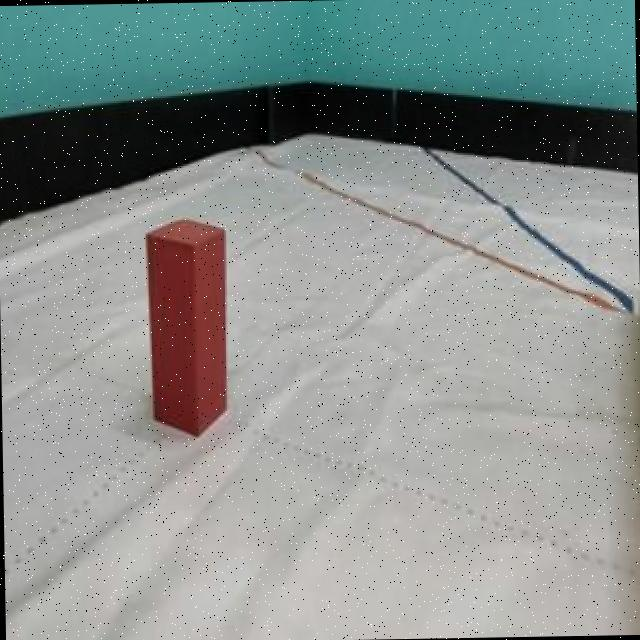redbox: (144, 212, 230, 438)
